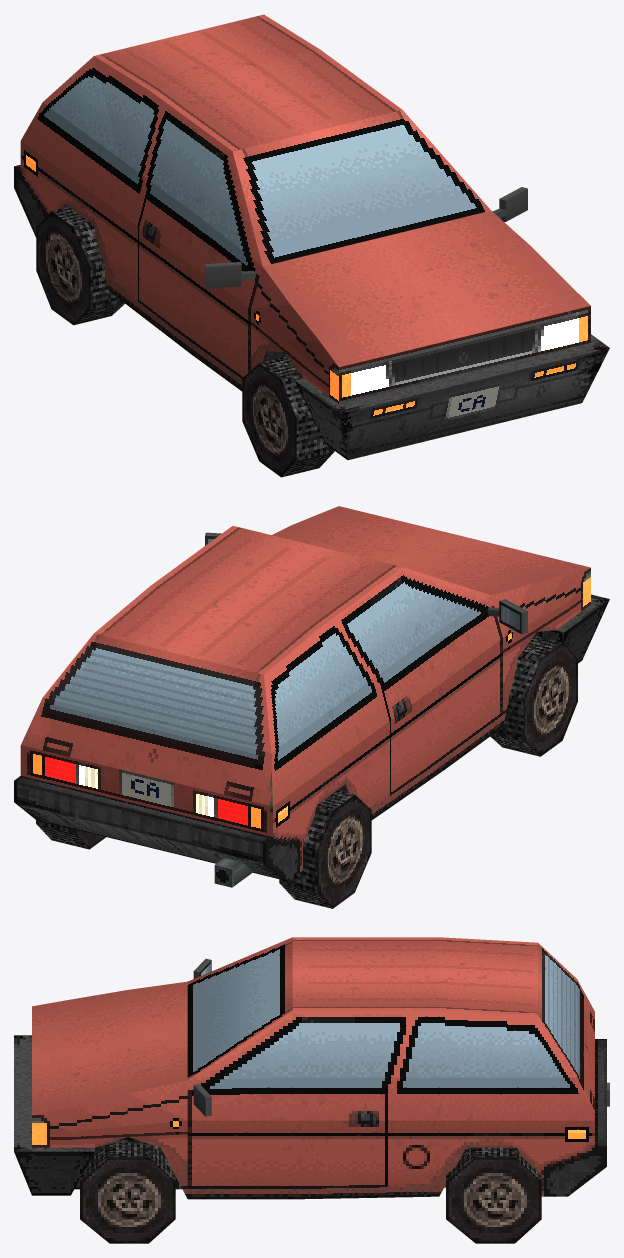
File: low_poly_compact_car_with_pixel_art_texture.glb
The picture shows the model from 3 angles, top to bottom: view 1: azimuth 30°, elevation 25°; view 2: azimuth 150°, elevation 25°; view 3: azimuth 270°, elevation 25°; orthographic projection. The views are drawn at different scales.
Parts seen in each view (by area): view 1: Object_2; view 2: Object_2; view 3: Object_2.
Part boxes in pixels (box(x1,y1,x2,y2)): Object_2: box(14, 14, 609, 477); Object_2: box(14, 506, 609, 908); Object_2: box(14, 937, 609, 1243).
Bounding box in the file's own units: 6.88 × 4.81 × 12.44.
Materials: 1 (1 with a texture image).
